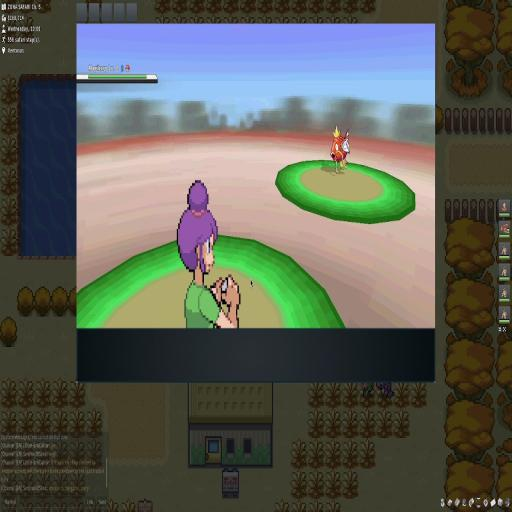MAGIKARP: (330, 126, 350, 174)
